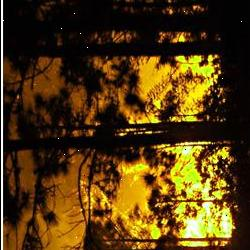fire: (88, 35, 237, 250)
